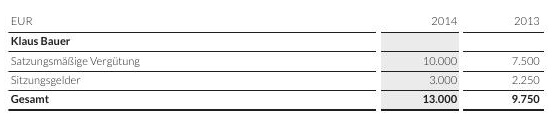table: (0, 0, 559, 122)
